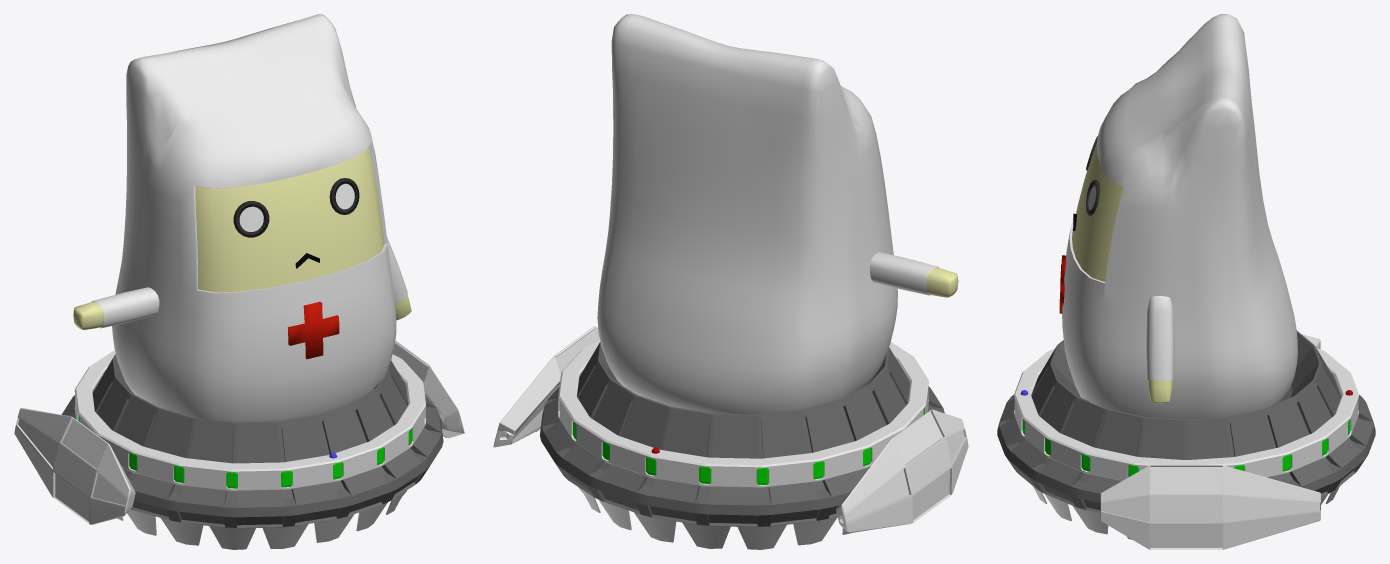
The model's file is alienMedic_pointingRight_wHover2.0.fbx.
3 views of the same model, side by side, from view 1: azimuth 30°, elevation 25°; view 2: azimuth 150°, elevation 25°; view 3: azimuth 270°, elevation 25° (orthographic). The views are drawn at different scales.
Parts seen in each view (by area): view 1: medic_pointingRight; view 2: medic_pointingRight; view 3: medic_pointingRight.
Part boxes in pixels (x1,y1,x2,y2): medic_pointingRight: [14, 14, 464, 549]; medic_pointingRight: [493, 14, 968, 549]; medic_pointingRight: [997, 14, 1375, 549].
Bounding box in the file's own units: 187 × 211 × 171.
